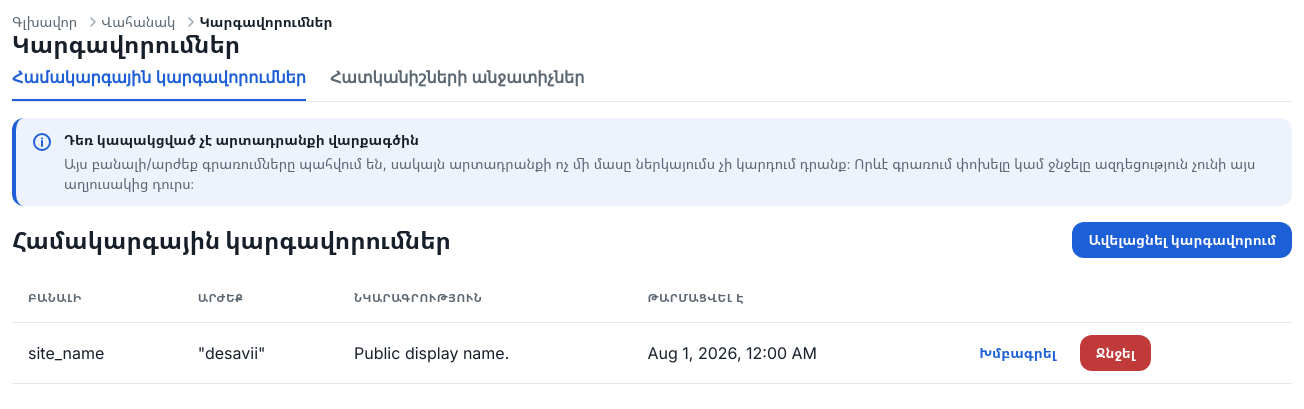
Test: AdminSettingsPageContent (apps/web/src/modules/admin) › both tabs honestly disclose that these values are not yet wired to product behavior
Expected: the text "site_name" is shown, [12, 322, 182, 384]
Expected: the text "Դեռ կապակցված չէ արտադրանքի վարքագծին" is shown, [64, 131, 419, 148]
Click the tab "Հատկանիշների անջատիչներ" at [457, 78], box [330, 56, 584, 101]
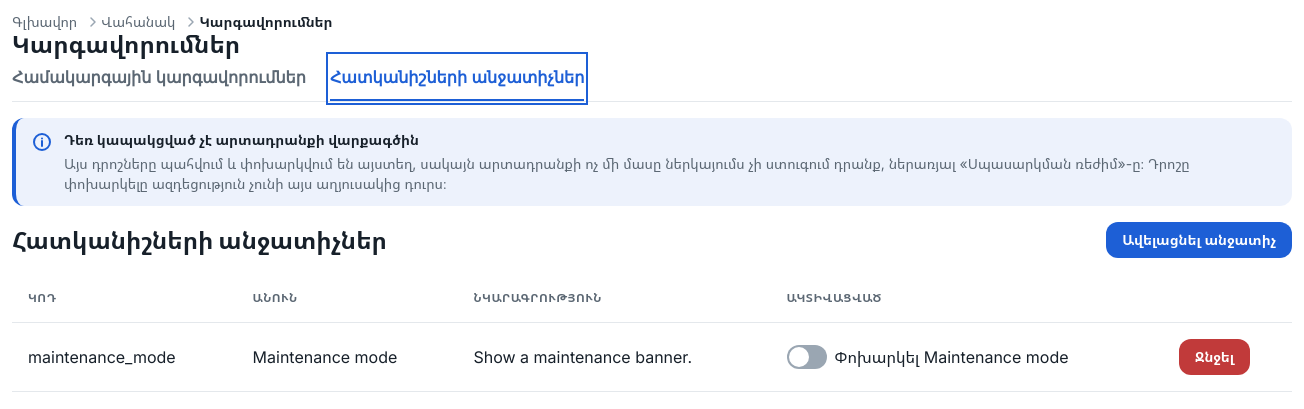
Expected: the text "Դեռ կապակցված չէ արտադրանքի վարքագծին" is shown, [64, 131, 419, 148]
Expected: the text "maintenance_mode" is shown, [12, 322, 237, 392]
